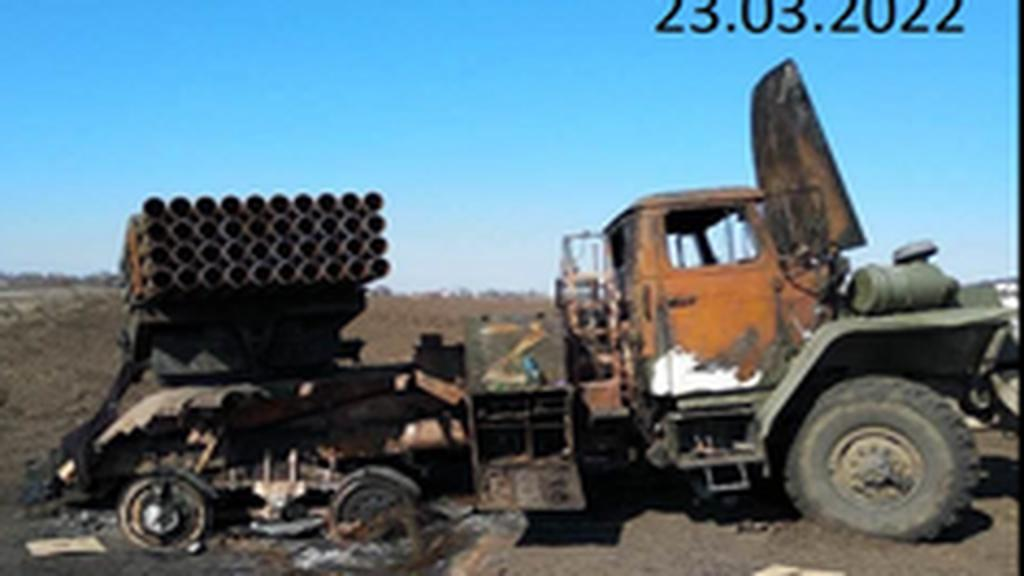MLRS: (64, 56, 1012, 556)
